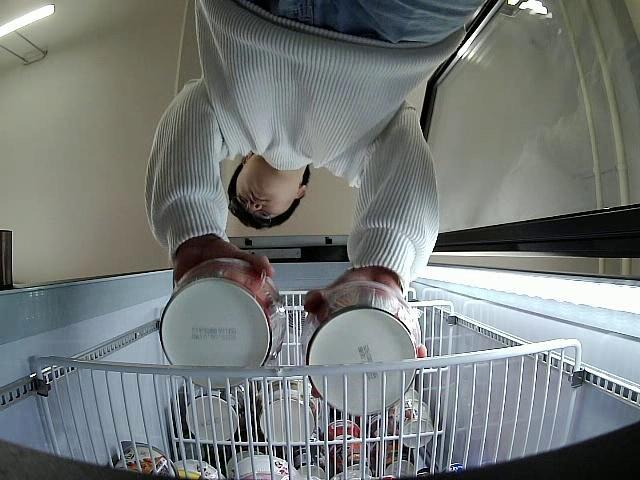01_ShinRamen_L: (158, 258, 286, 388), (302, 282, 422, 416)
